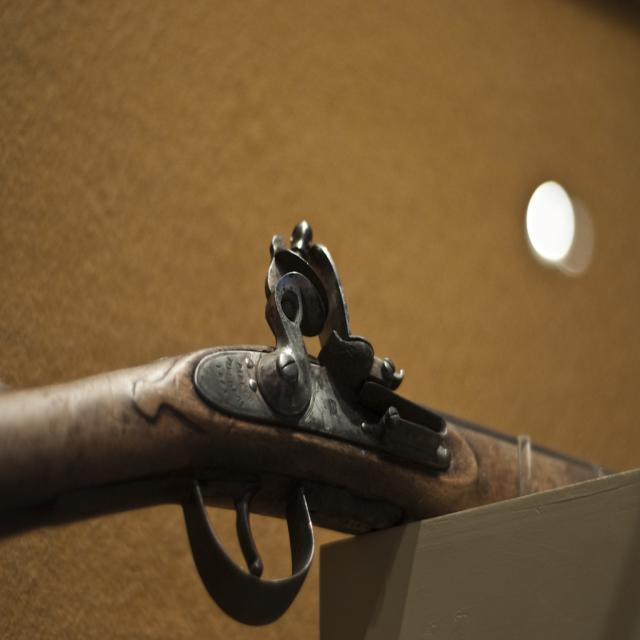weapon: (0, 219, 618, 625)
